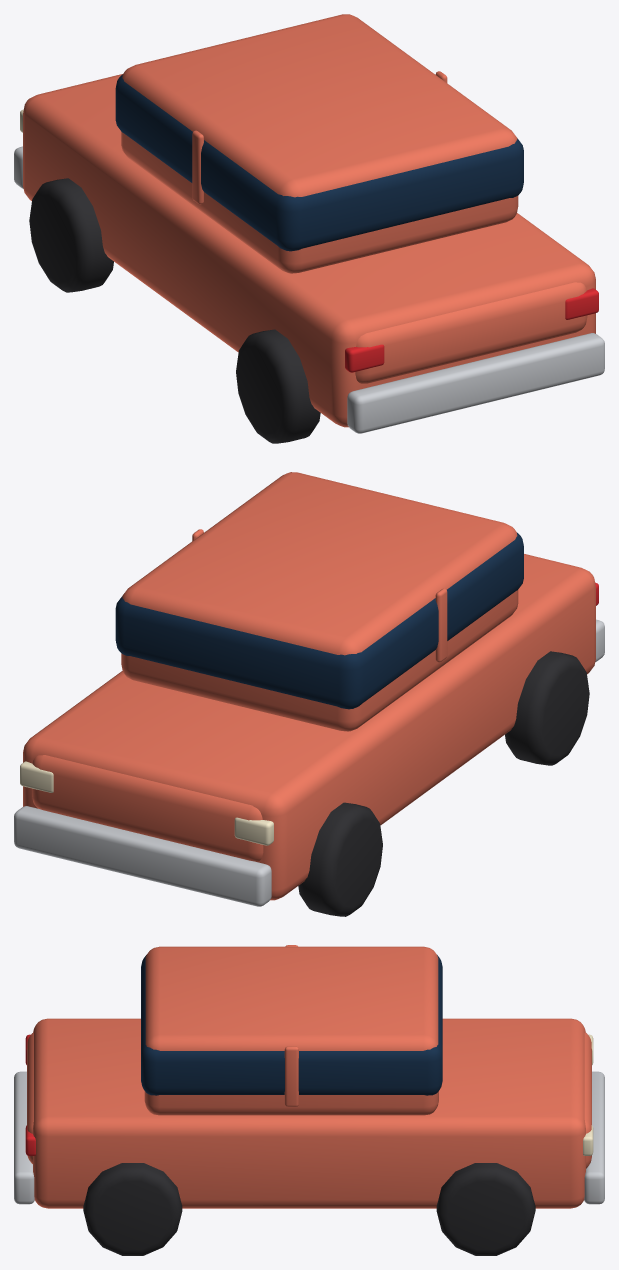
Rendered from sedan-coral.glb.
3 views of the same model, one above another, from view 1: azimuth 30°, elevation 25°; view 2: azimuth 150°, elevation 25°; view 3: azimuth 270°, elevation 25° (orthographic). The views are drawn at different scales.
Parts seen in each view (by area): view 1: Sedan_Body, Sedan_Cabin, Sedan_GlassBand, Sedan_BumpR, Sedan_Trunk, Wheel_2V_Sedan, Wheel_0V_Sedan, Sedan_Tail_0, Sedan_Tail_1, Sedan_Bpil_-1; view 2: Sedan_Body, Sedan_Cabin, Sedan_GlassBand, Sedan_Hood, Sedan_BumpF, Wheel_0V_Sedan, Wheel_2V_Sedan, Sedan_Light_0, Sedan_Bpil_-1, Sedan_Light_1; view 3: Sedan_Body, Sedan_Cabin, Sedan_GlassBand, Wheel_1V_Sedan, Wheel_3V_Sedan, Sedan_BumpR, Sedan_BumpF, Sedan_Bpil_+1, Sedan_Hood, Sedan_Trunk.
Boxes of the visible parts, x1=… form: Sedan_Body: x1=23, y1=74, x2=595, y2=427; Sedan_Cabin: x1=121, y1=14, x2=518, y2=273; Sedan_GlassBand: x1=115, y1=74, x2=523, y2=251; Sedan_BumpR: x1=347, y1=333, x2=604, y2=433; Sedan_Trunk: x1=355, y1=282, x2=587, y2=383; Wheel_2V_Sedan: x1=236, y1=329, x2=320, y2=443; Wheel_0V_Sedan: x1=29, y1=178, x2=113, y2=292; Sedan_Tail_0: x1=345, y1=344, x2=384, y2=372; Sedan_Tail_1: x1=565, y1=288, x2=598, y2=319; Sedan_Bpil_-1: x1=192, y1=130, x2=203, y2=204; Sedan_Body: x1=23, y1=554, x2=595, y2=900; Sedan_Cabin: x1=121, y1=472, x2=518, y2=731; Sedan_GlassBand: x1=115, y1=532, x2=523, y2=709; Sedan_Hood: x1=32, y1=755, x2=263, y2=861; Sedan_BumpF: x1=14, y1=806, x2=271, y2=906; Wheel_0V_Sedan: x1=298, y1=802, x2=382, y2=916; Wheel_2V_Sedan: x1=505, y1=651, x2=589, y2=765; Sedan_Light_0: x1=234, y1=817, x2=273, y2=845; Sedan_Bpil_-1: x1=435, y1=588, x2=447, y2=662; Sedan_Light_1: x1=20, y1=761, x2=53, y2=792; Sedan_Body: x1=33, y1=1018, x2=585, y2=1208; Sedan_Cabin: x1=144, y1=946, x2=438, y2=1115; Sedan_GlassBand: x1=141, y1=955, x2=442, y2=1095; Wheel_1V_Sedan: x1=436, y1=1163, x2=535, y2=1255; Wheel_3V_Sedan: x1=83, y1=1163, x2=182, y2=1255; Sedan_BumpR: x1=14, y1=1071, x2=34, y2=1204; Sedan_BumpF: x1=584, y1=1071, x2=604, y2=1204; Sedan_Bpil_+1: x1=284, y1=1046, x2=298, y2=1106; Sedan_Hood: x1=584, y1=1032, x2=591, y2=1168; Sedan_Trunk: x1=27, y1=1032, x2=33, y2=1163.
Size of the model in its own units: 2.56 by 1.91 by 5.02.
